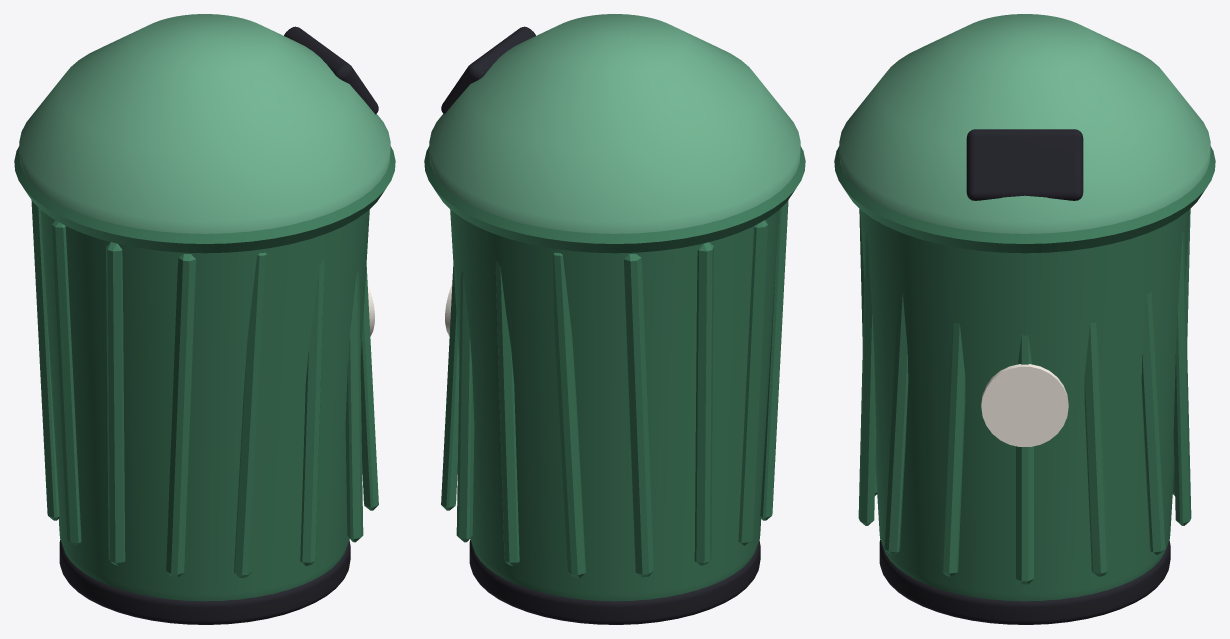
File: trashcan.glb
The picture shows the model from 3 angles, left to right: view 1: azimuth 30°, elevation 25°; view 2: azimuth 150°, elevation 25°; view 3: azimuth 270°, elevation 25°; orthographic projection.
Visible parts, largest first — view 1: trashcan; view 2: trashcan; view 3: trashcan.
Boxes of the visible parts, left/top/right/bottom form: trashcan: left=14, top=14, right=395, bottom=624; trashcan: left=424, top=14, right=805, bottom=624; trashcan: left=834, top=14, right=1215, bottom=624.
Bounding box in the file's own units: 0.5235 × 0.8 × 0.5238.
Materials: 1 (1 with a texture image).
